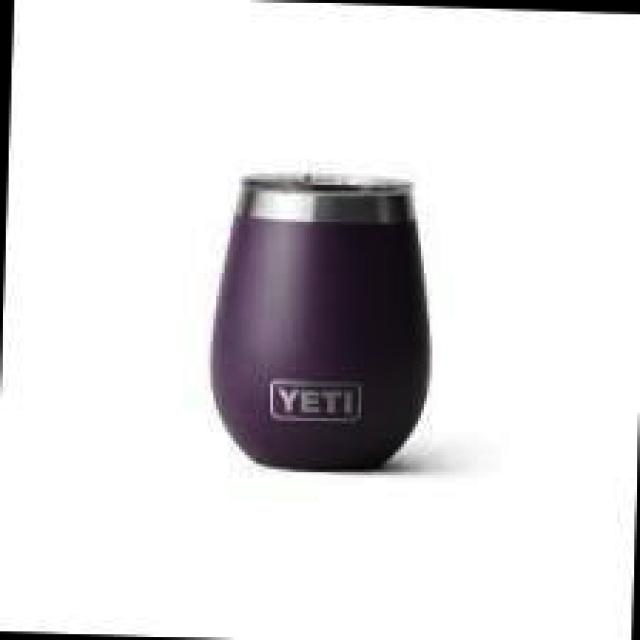bottle: (199, 157, 444, 472)
